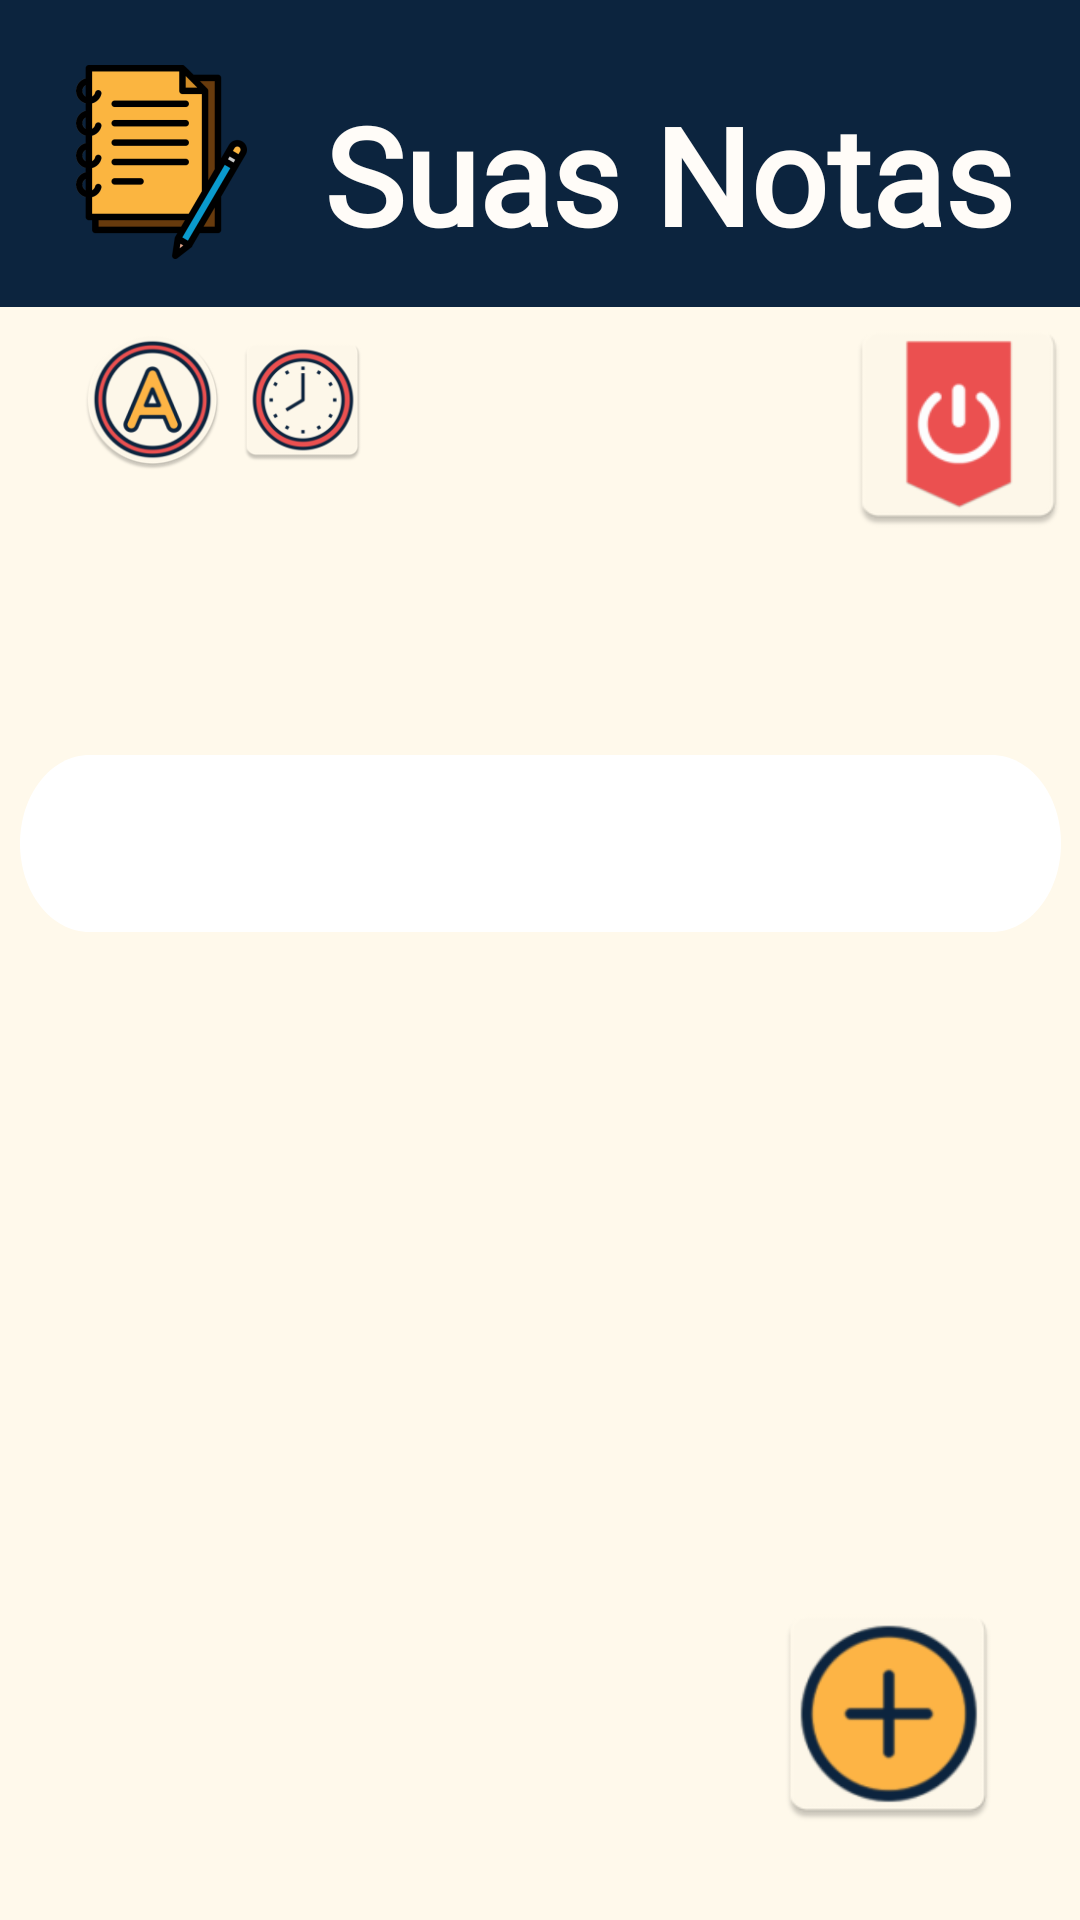

Where icons sit on this 1080px×1920px app screen, as (x1, y1, x2, y2):
buttom: (791, 1625, 987, 1817)
time: (247, 349, 359, 459)
